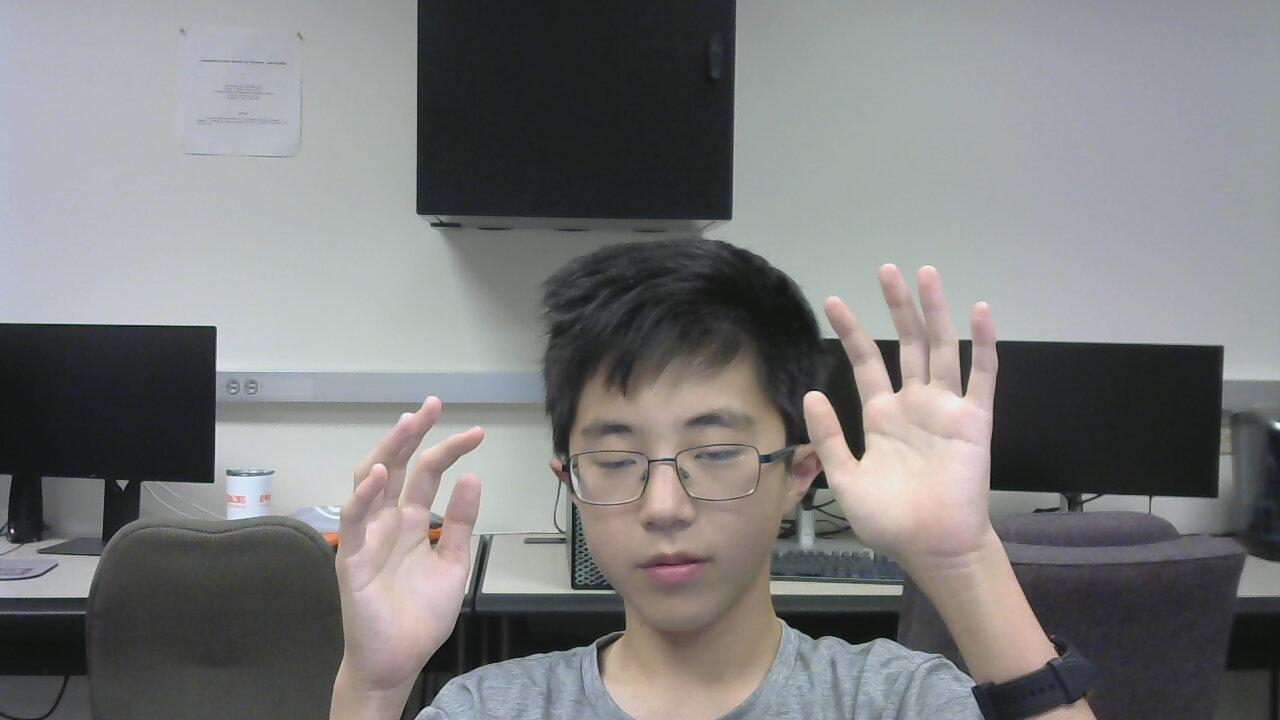hands: (793, 248, 1055, 562), (333, 394, 487, 686)
